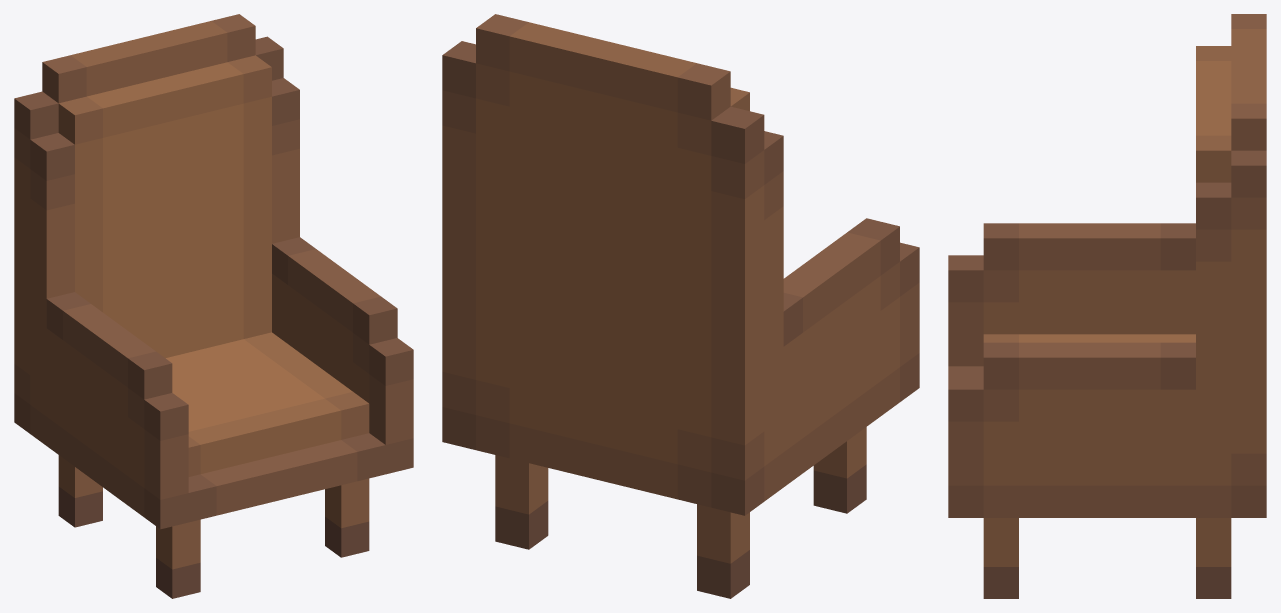
Rendered from Interior_Furniture_Chair_02.obj.
The picture shows the model from 3 angles, left to right: view 1: azimuth 30°, elevation 25°; view 2: azimuth 150°, elevation 25°; view 3: azimuth 270°, elevation 25°; orthographic projection. The views are drawn at different scales.
Size of the model in its own units: 0.9 by 1.5 by 0.9.
1 material, 1 textured.
